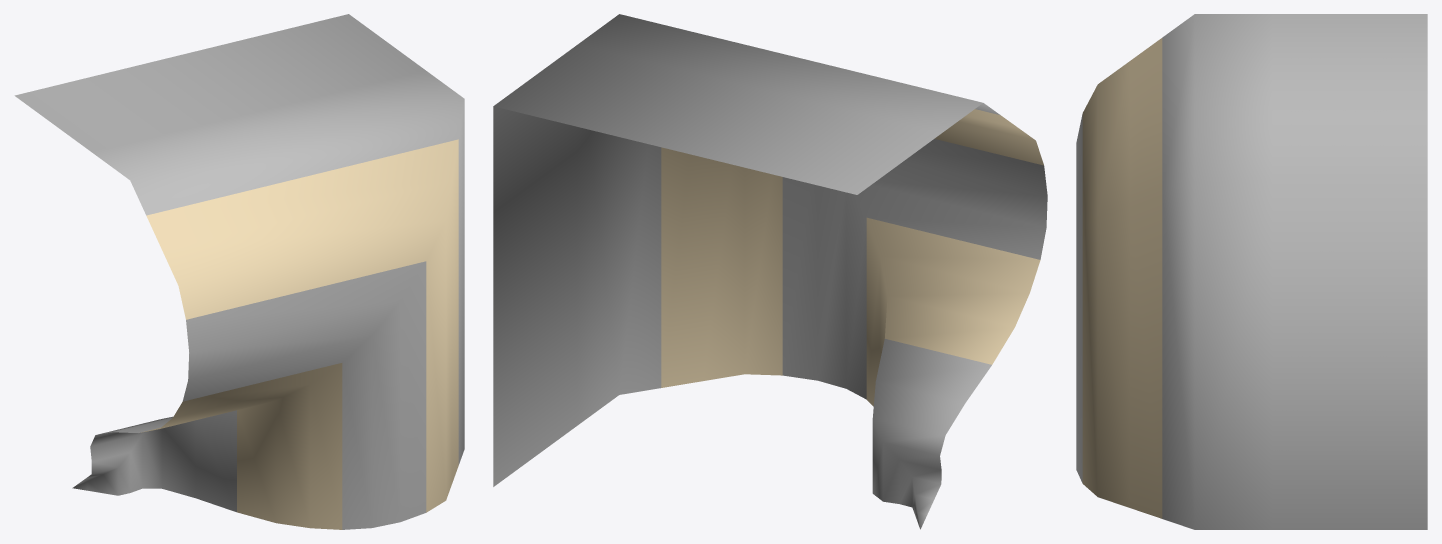
File: pf_corner_c.glb
3 renders of one model, left to right at view 1: azimuth 30°, elevation 25°; view 2: azimuth 150°, elevation 25°; view 3: azimuth 270°, elevation 25°, orthographic. The views are drawn at different scales.
Visible parts, largest first — view 1: pf_corner_c; view 2: pf_corner_c; view 3: pf_corner_c.
Part boxes in pixels (left/top/right/bottom): pf_corner_c: left=14, top=14, right=464, bottom=529; pf_corner_c: left=493, top=14, right=1047, bottom=529; pf_corner_c: left=1076, top=14, right=1427, bottom=529.
Bounding box in the file's own units: 1 × 1 × 0.9056.
